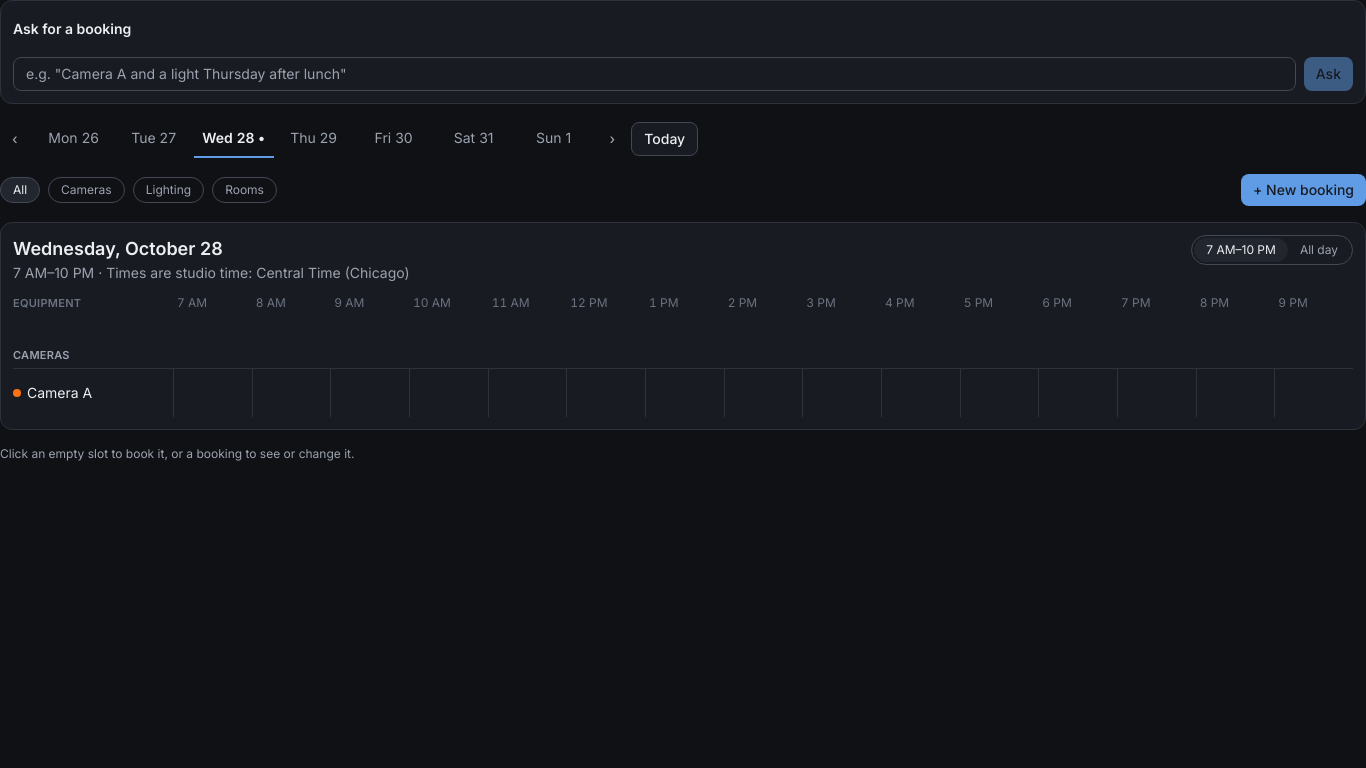
Scenario: AssistantPanel › keeps the booked line after a follow-up, without sending it
Step 1. Type "Camera A Thursday 1 to 3 for an interview" into the field named "Ask the booking assistant" → (654, 74), box x1=13 y1=57 x2=1296 y2=91
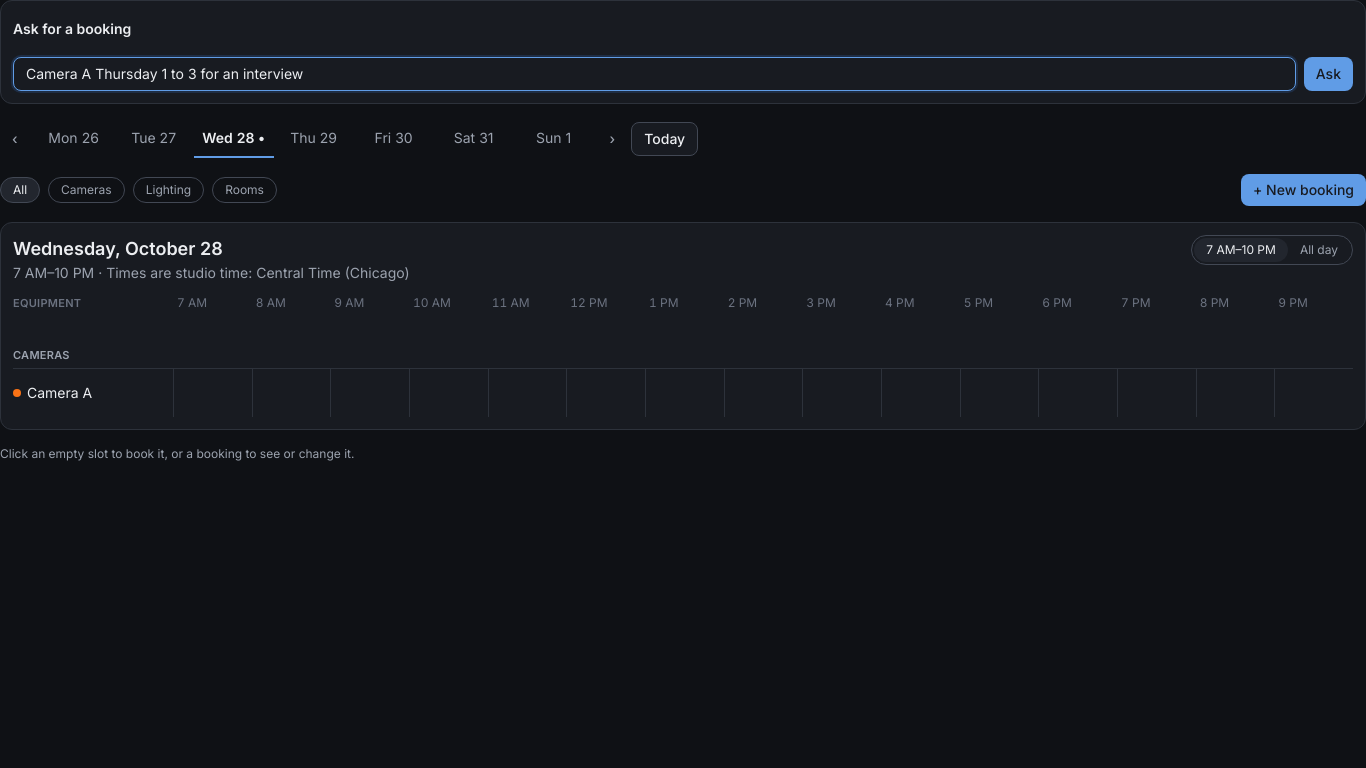
Step 2. Click the button "Ask" → (1328, 74), box x1=1304 y1=57 x2=1353 y2=91
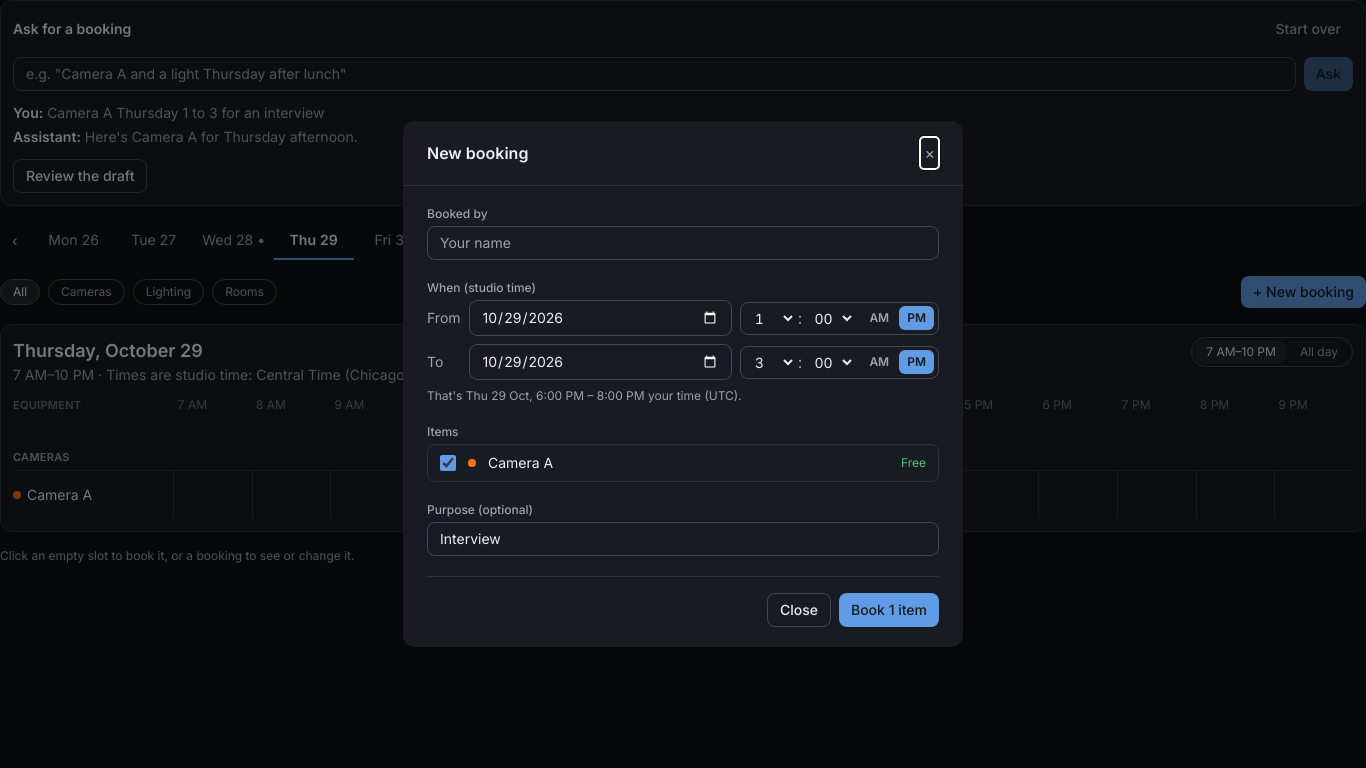
Step 3. Type "Sam K" into the field named "Booked by" → (683, 243), box x1=427 y1=226 x2=939 y2=260
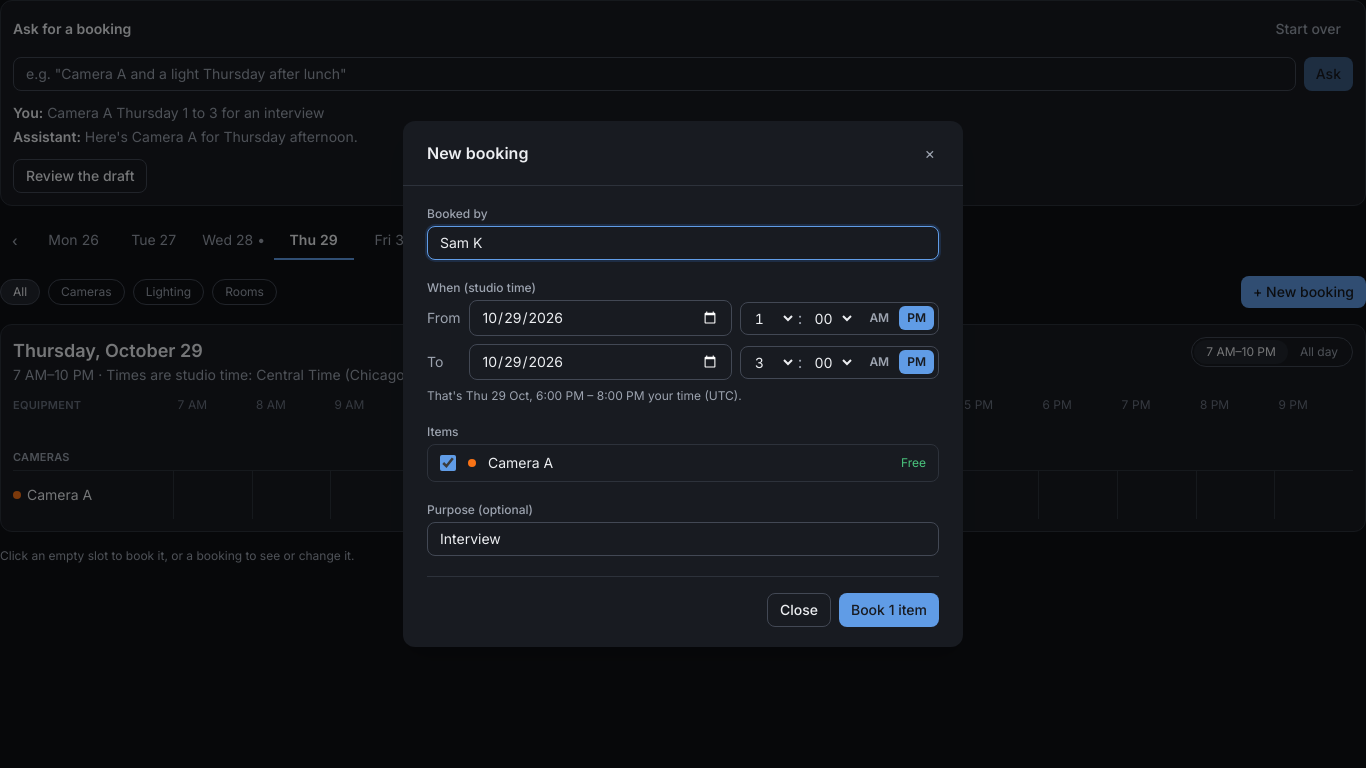
Step 4. Click the button "Book 1 item" → (889, 610), box x1=839 y1=593 x2=939 y2=627
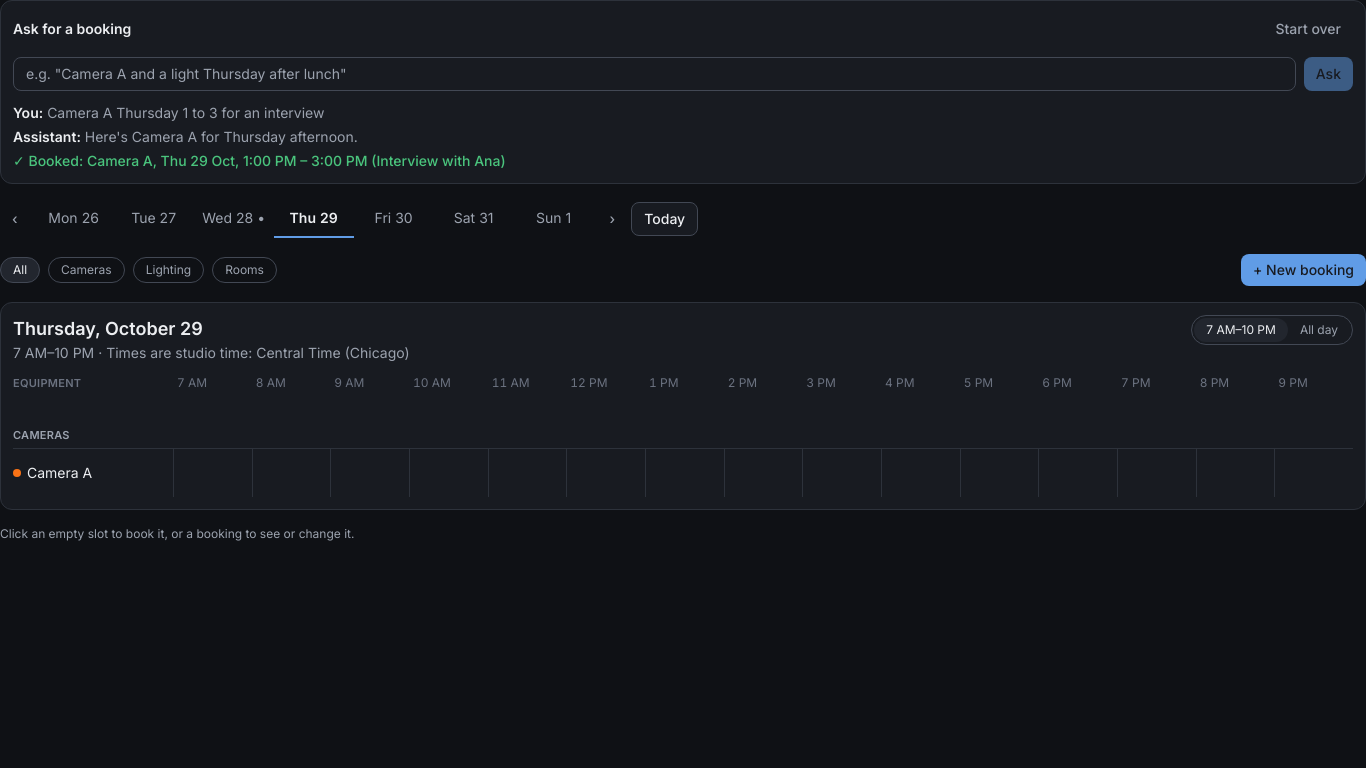
Check: the text "✓ Booked:" is shown, box x1=13 y1=152 x2=506 y2=169
Step 5. Type "And a light?" into the field named "Ask the booking assistant" → (654, 74), box x1=13 y1=57 x2=1296 y2=91
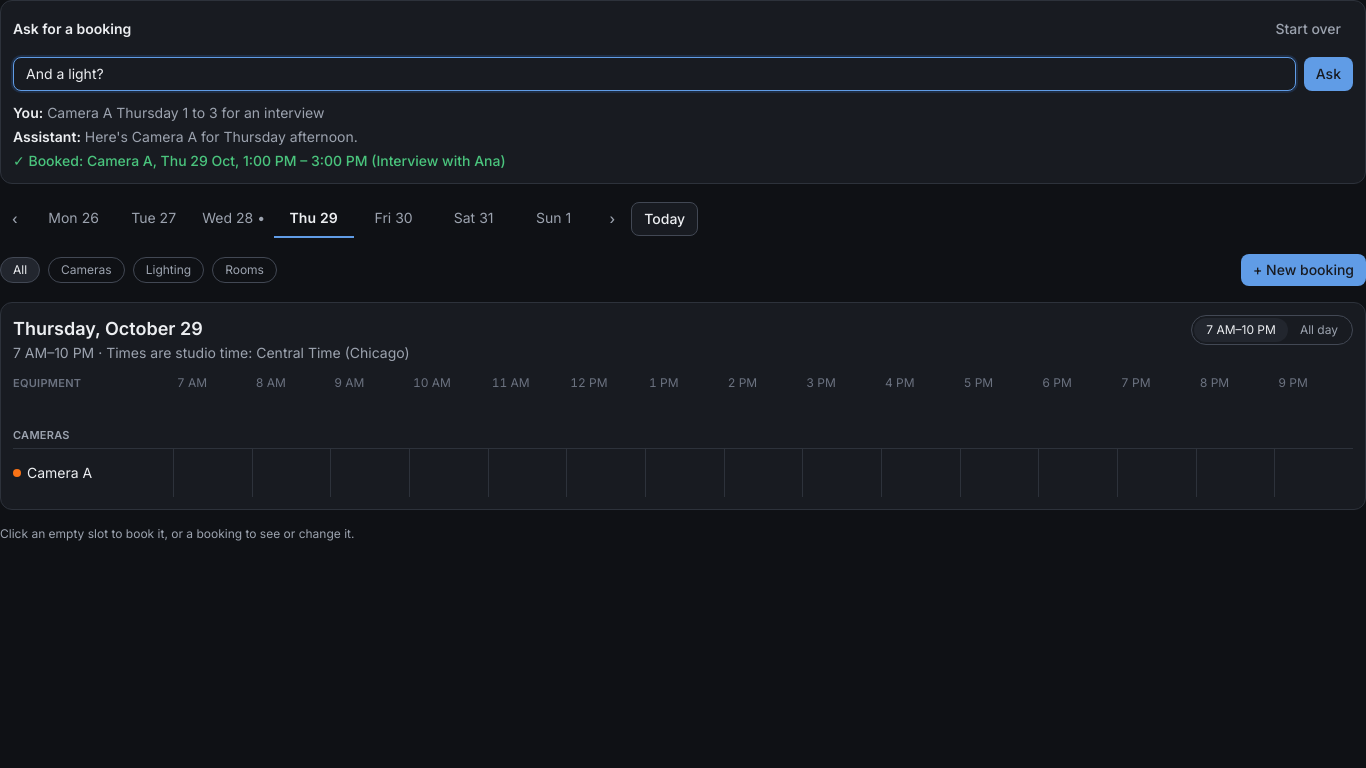
Step 6. Click the button "Ask" → (1328, 74), box x1=1304 y1=57 x2=1353 y2=91
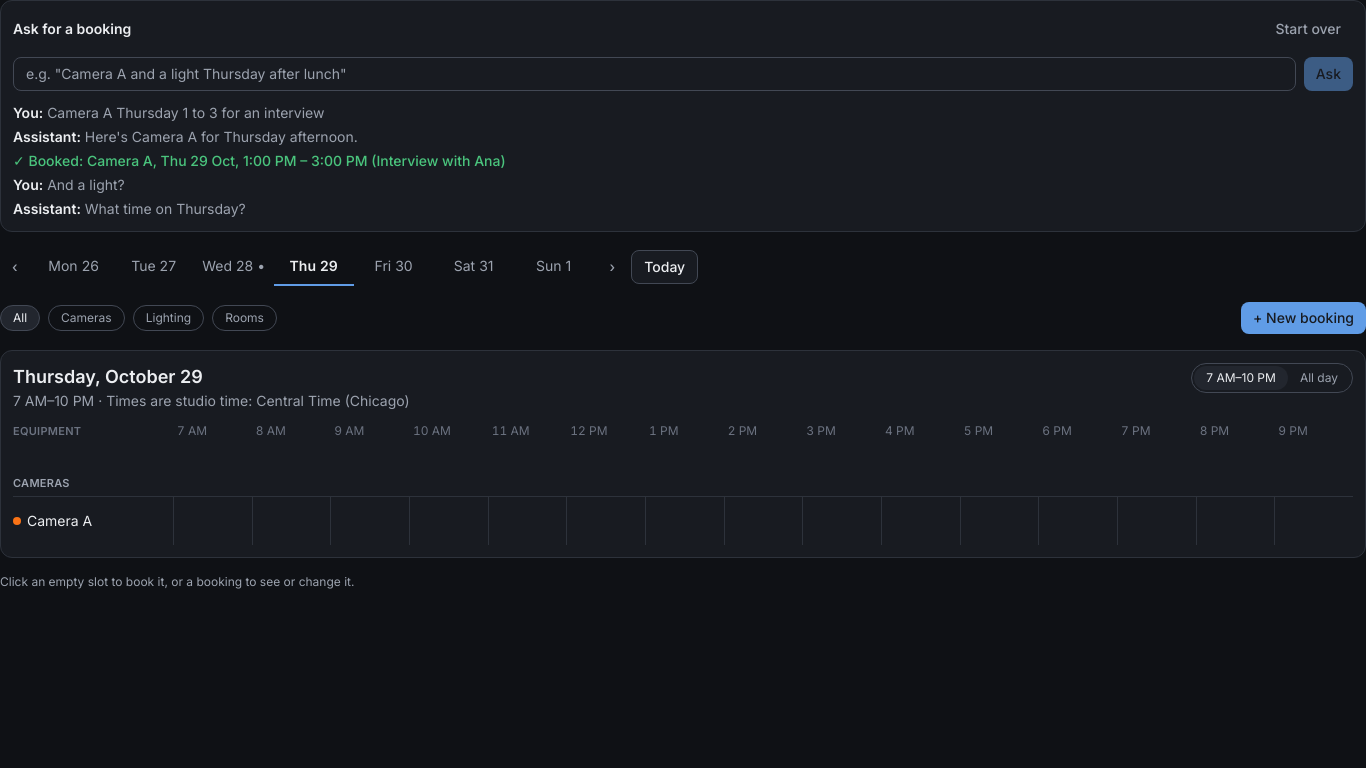
Check: the text "✓ Booked:" is shown, box x1=13 y1=152 x2=506 y2=169
Check: the text "What time on Thursday?" is shown, box x1=85 y1=200 x2=246 y2=217
